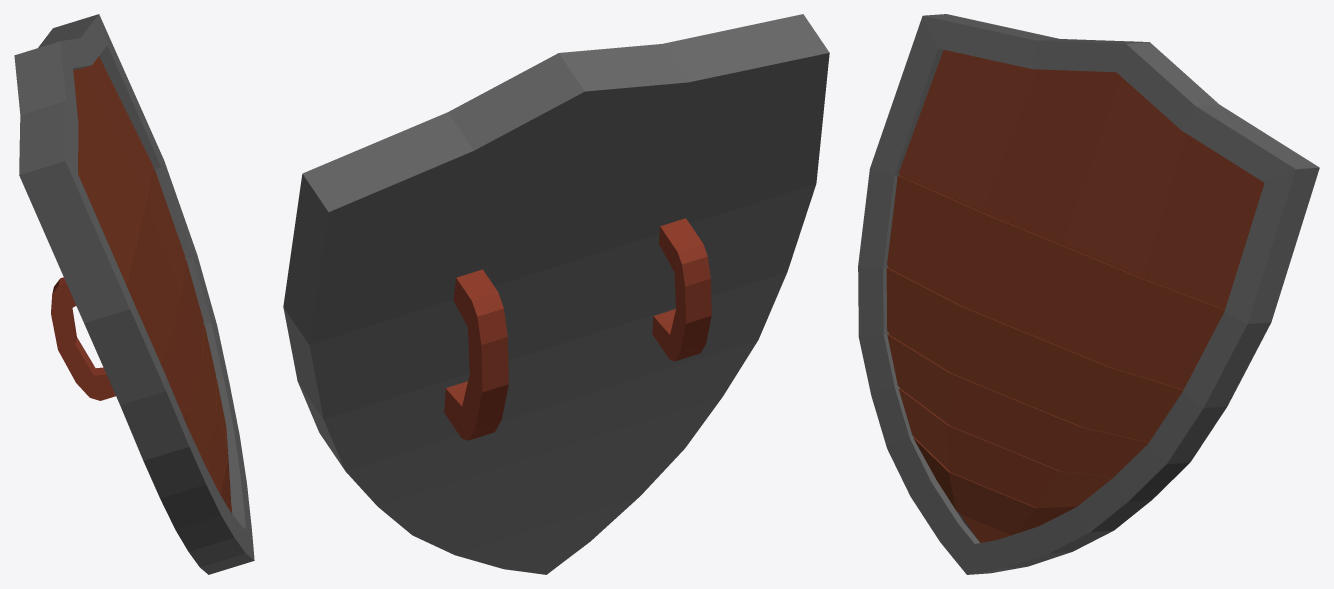
Rendered from mini_shield.glb.
3 renders of one model, left to right at view 1: azimuth 30°, elevation 25°; view 2: azimuth 150°, elevation 25°; view 3: azimuth 270°, elevation 25°, orthographic. The views are drawn at different scales.
Visible parts, largest first — view 1: handles; view 2: handles; view 3: handles.
Boxes of the visible parts, x1=… form: handles: x1=14, y1=14, x2=254, y2=574; handles: x1=283, y1=14, x2=829, y2=574; handles: x1=858, y1=14, x2=1319, y2=574.
Size of the model in its own units: 727 by 1123 by 956.
